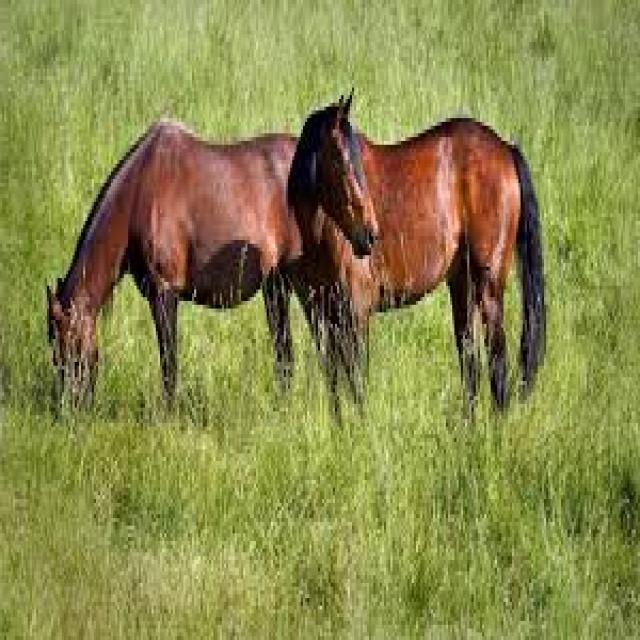horse: (284, 86, 548, 418), (40, 117, 296, 431)
